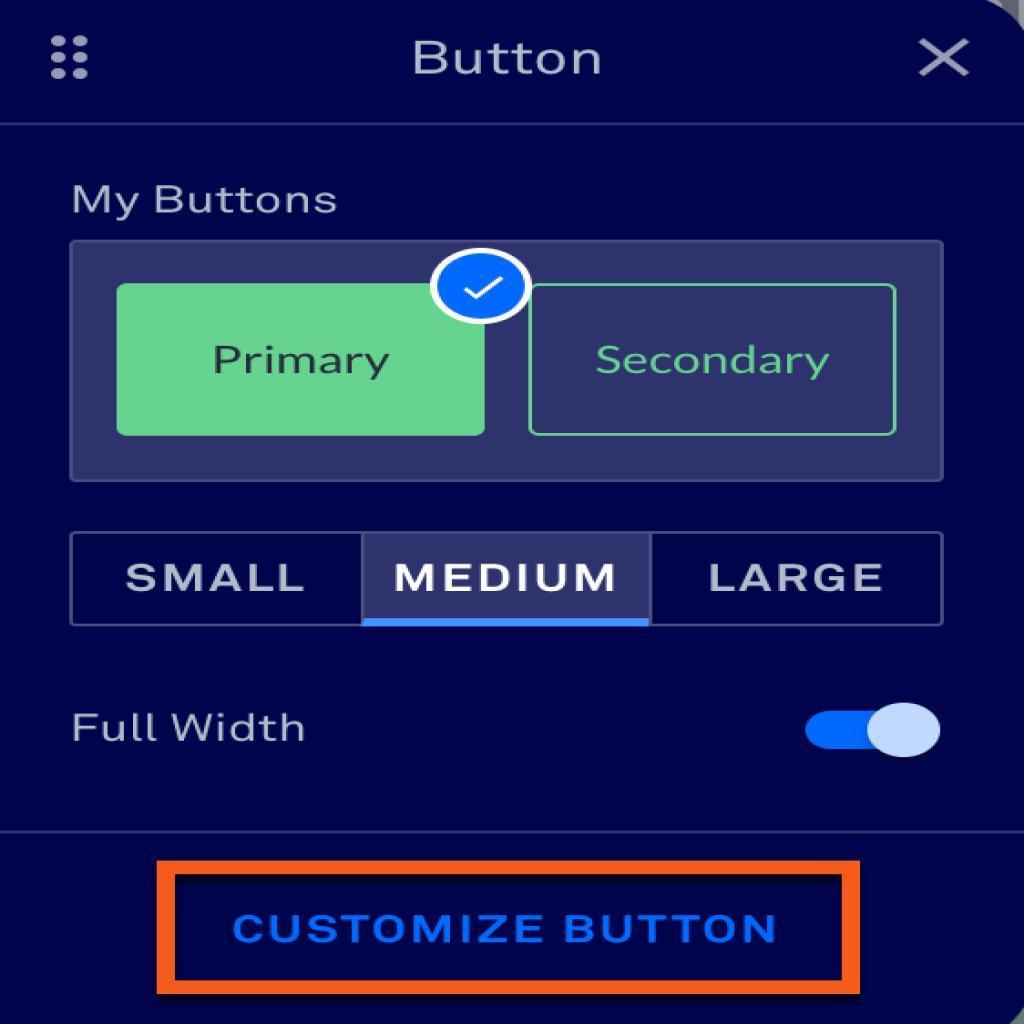button: (160, 861, 860, 994), (528, 285, 898, 436), (121, 282, 482, 434), (71, 532, 366, 626), (651, 533, 944, 626), (365, 532, 651, 626)
icon: (44, 25, 105, 90), (920, 35, 973, 83)
switch: (803, 696, 946, 763)
